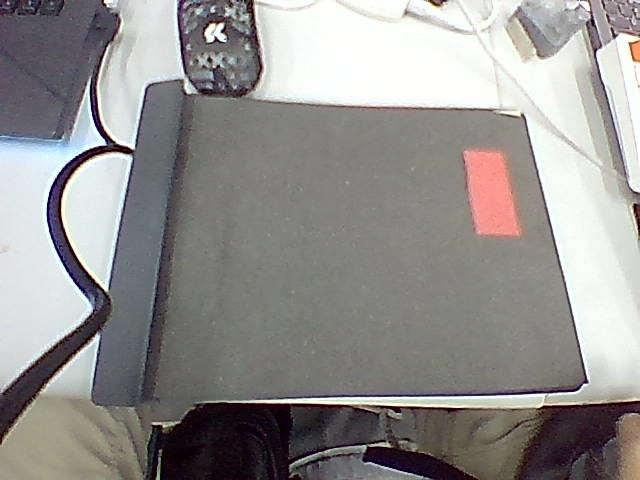card: (464, 151, 521, 236)
